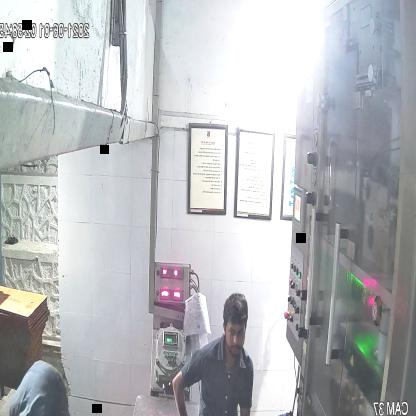no_goggles: (220, 320, 250, 343)
